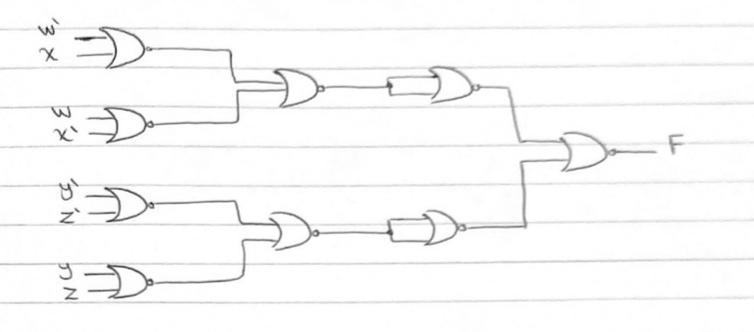NOR: (92, 22, 163, 74), (268, 58, 333, 114), (554, 122, 620, 176), (420, 61, 489, 112), (255, 206, 325, 256), (415, 202, 475, 254), (98, 259, 163, 305), (103, 182, 167, 227), (100, 99, 155, 148)
